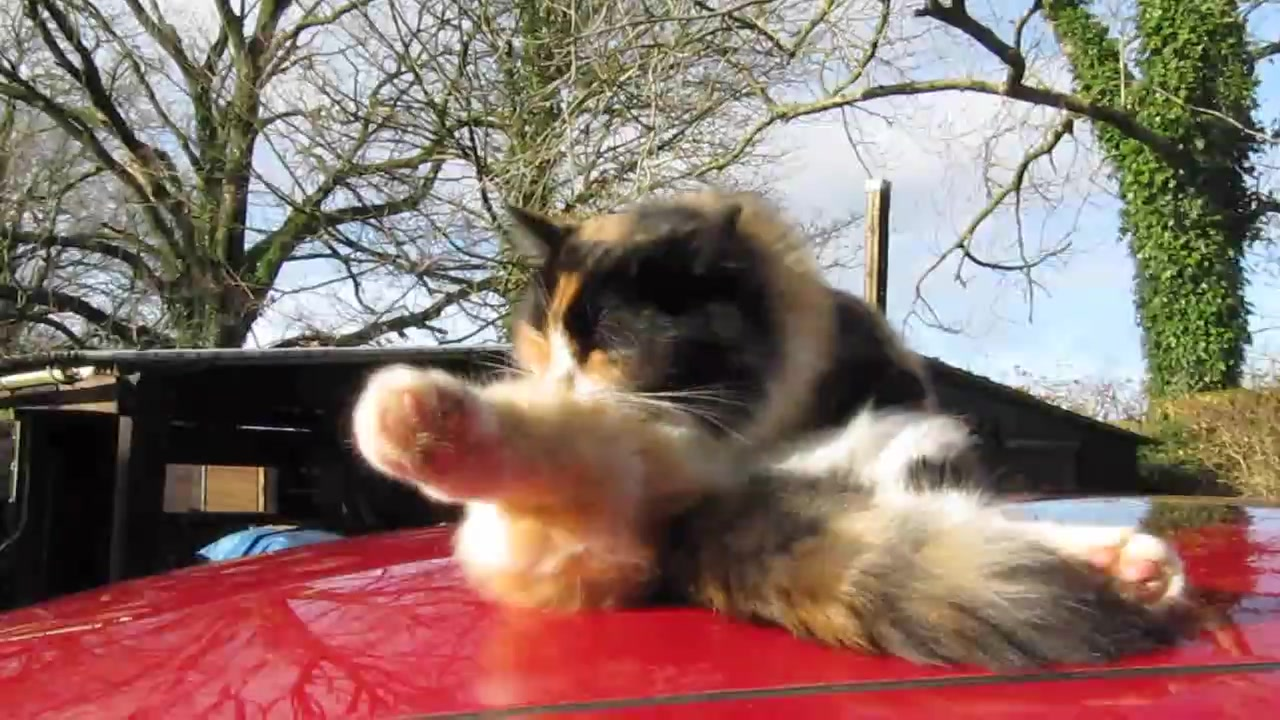cat: (352, 204, 1194, 656)
